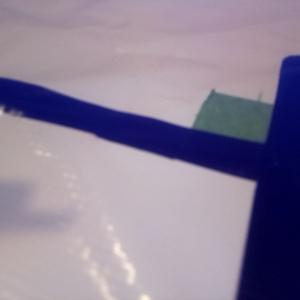top_left: (193, 90, 300, 166)
